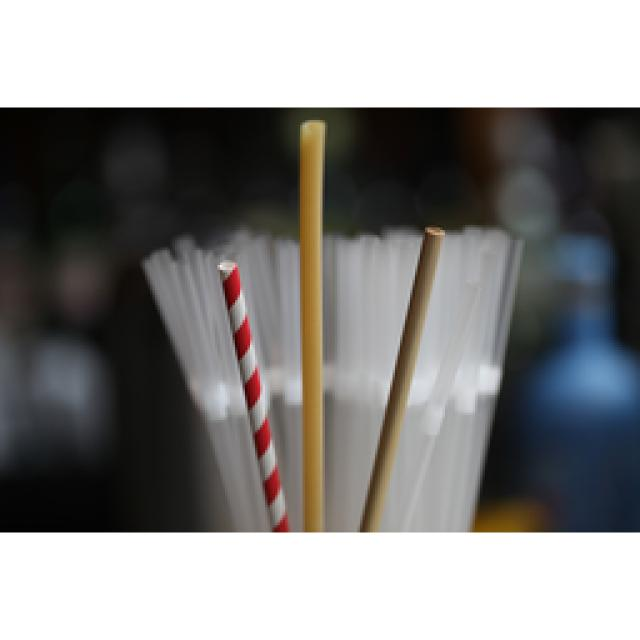plastic: (137, 115, 525, 530), (357, 222, 445, 530), (215, 258, 287, 530), (295, 115, 325, 530)
